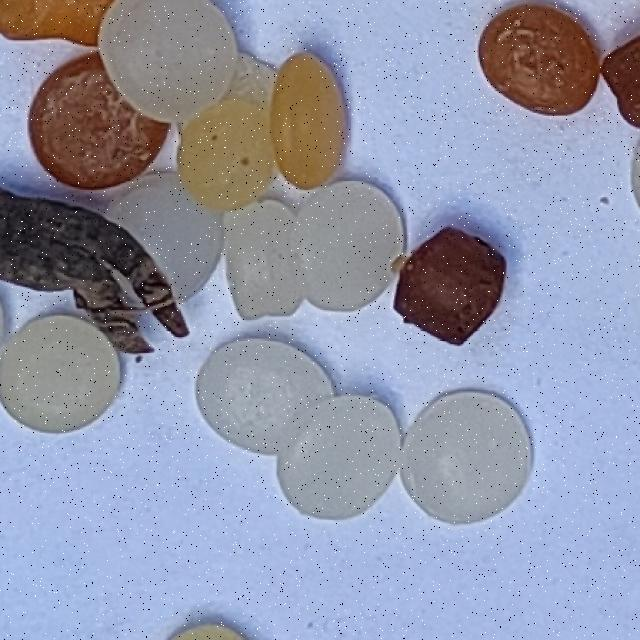beads: (0, 36, 183, 226), (382, 369, 553, 548), (172, 306, 342, 476), (0, 284, 149, 463), (459, 0, 624, 136), (273, 391, 404, 529), (95, 0, 240, 123), (294, 174, 412, 317), (260, 50, 356, 196), (173, 96, 277, 214)
fragments: (372, 209, 529, 366)
